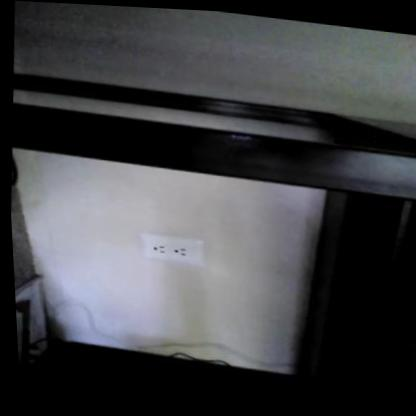OUTLET: (137, 233, 204, 266)
